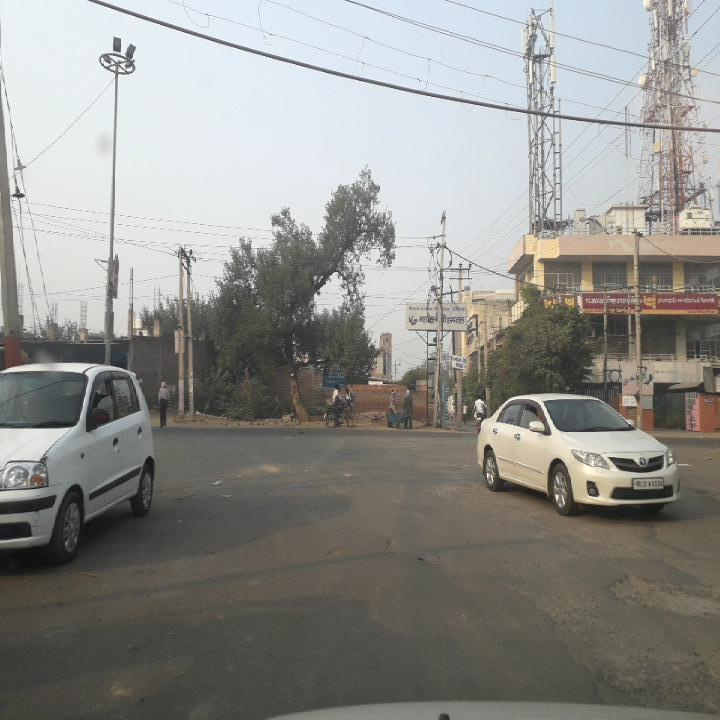pothole: (606, 572, 717, 627)
